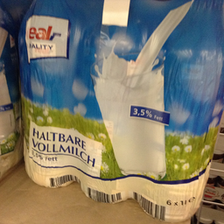milk: (144, 1, 221, 224), (12, 1, 78, 193), (80, 1, 139, 204)
